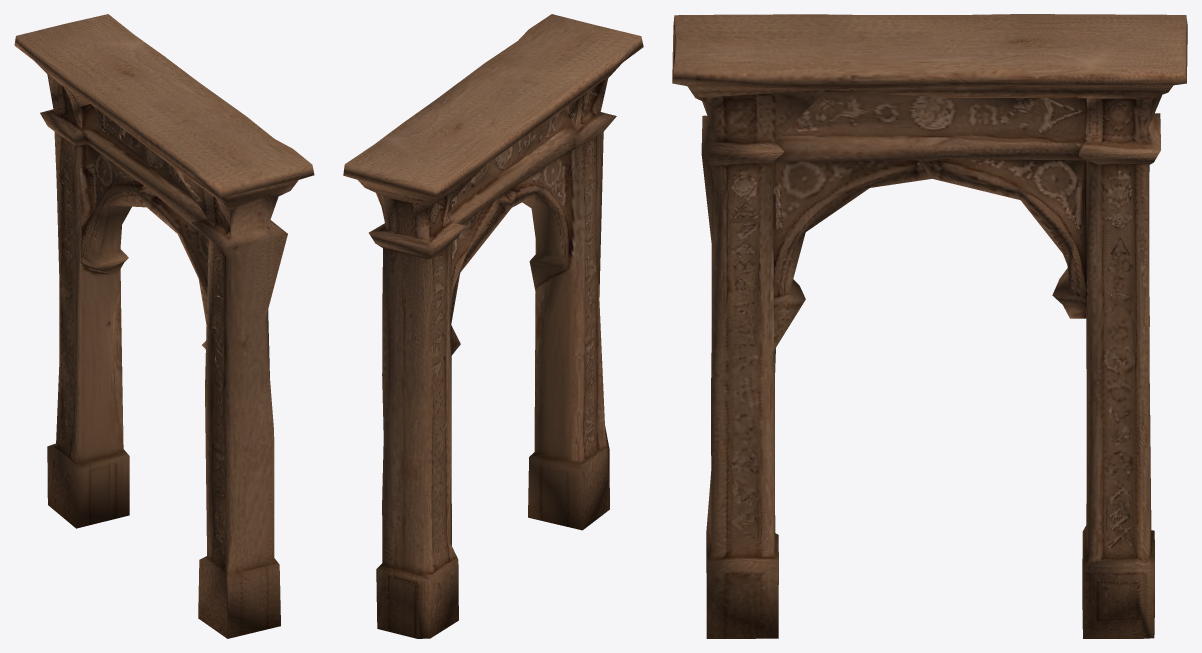
The model's file is woodenArch.glb.
The picture shows the model from 3 angles, left to right: view 1: azimuth 30°, elevation 25°; view 2: azimuth 150°, elevation 25°; view 3: azimuth 270°, elevation 25°; orthographic projection. The views are drawn at different scales.
Parts seen in each view (by area): view 1: tripo_node_0862079c-daf0-46a3-af62-e1601ca2f080; view 2: tripo_node_0862079c-daf0-46a3-af62-e1601ca2f080; view 3: tripo_node_0862079c-daf0-46a3-af62-e1601ca2f080.
Boxes of the visible parts, left/top/right/bottom form: tripo_node_0862079c-daf0-46a3-af62-e1601ca2f080: left=14, top=14, right=314, bottom=638; tripo_node_0862079c-daf0-46a3-af62-e1601ca2f080: left=343, top=14, right=643, bottom=638; tripo_node_0862079c-daf0-46a3-af62-e1601ca2f080: left=672, top=14, right=1187, bottom=638.
Size of the model in its own units: 0.2075 by 0.9793 by 0.7867.
Materials: 1 (1 with a texture image).
